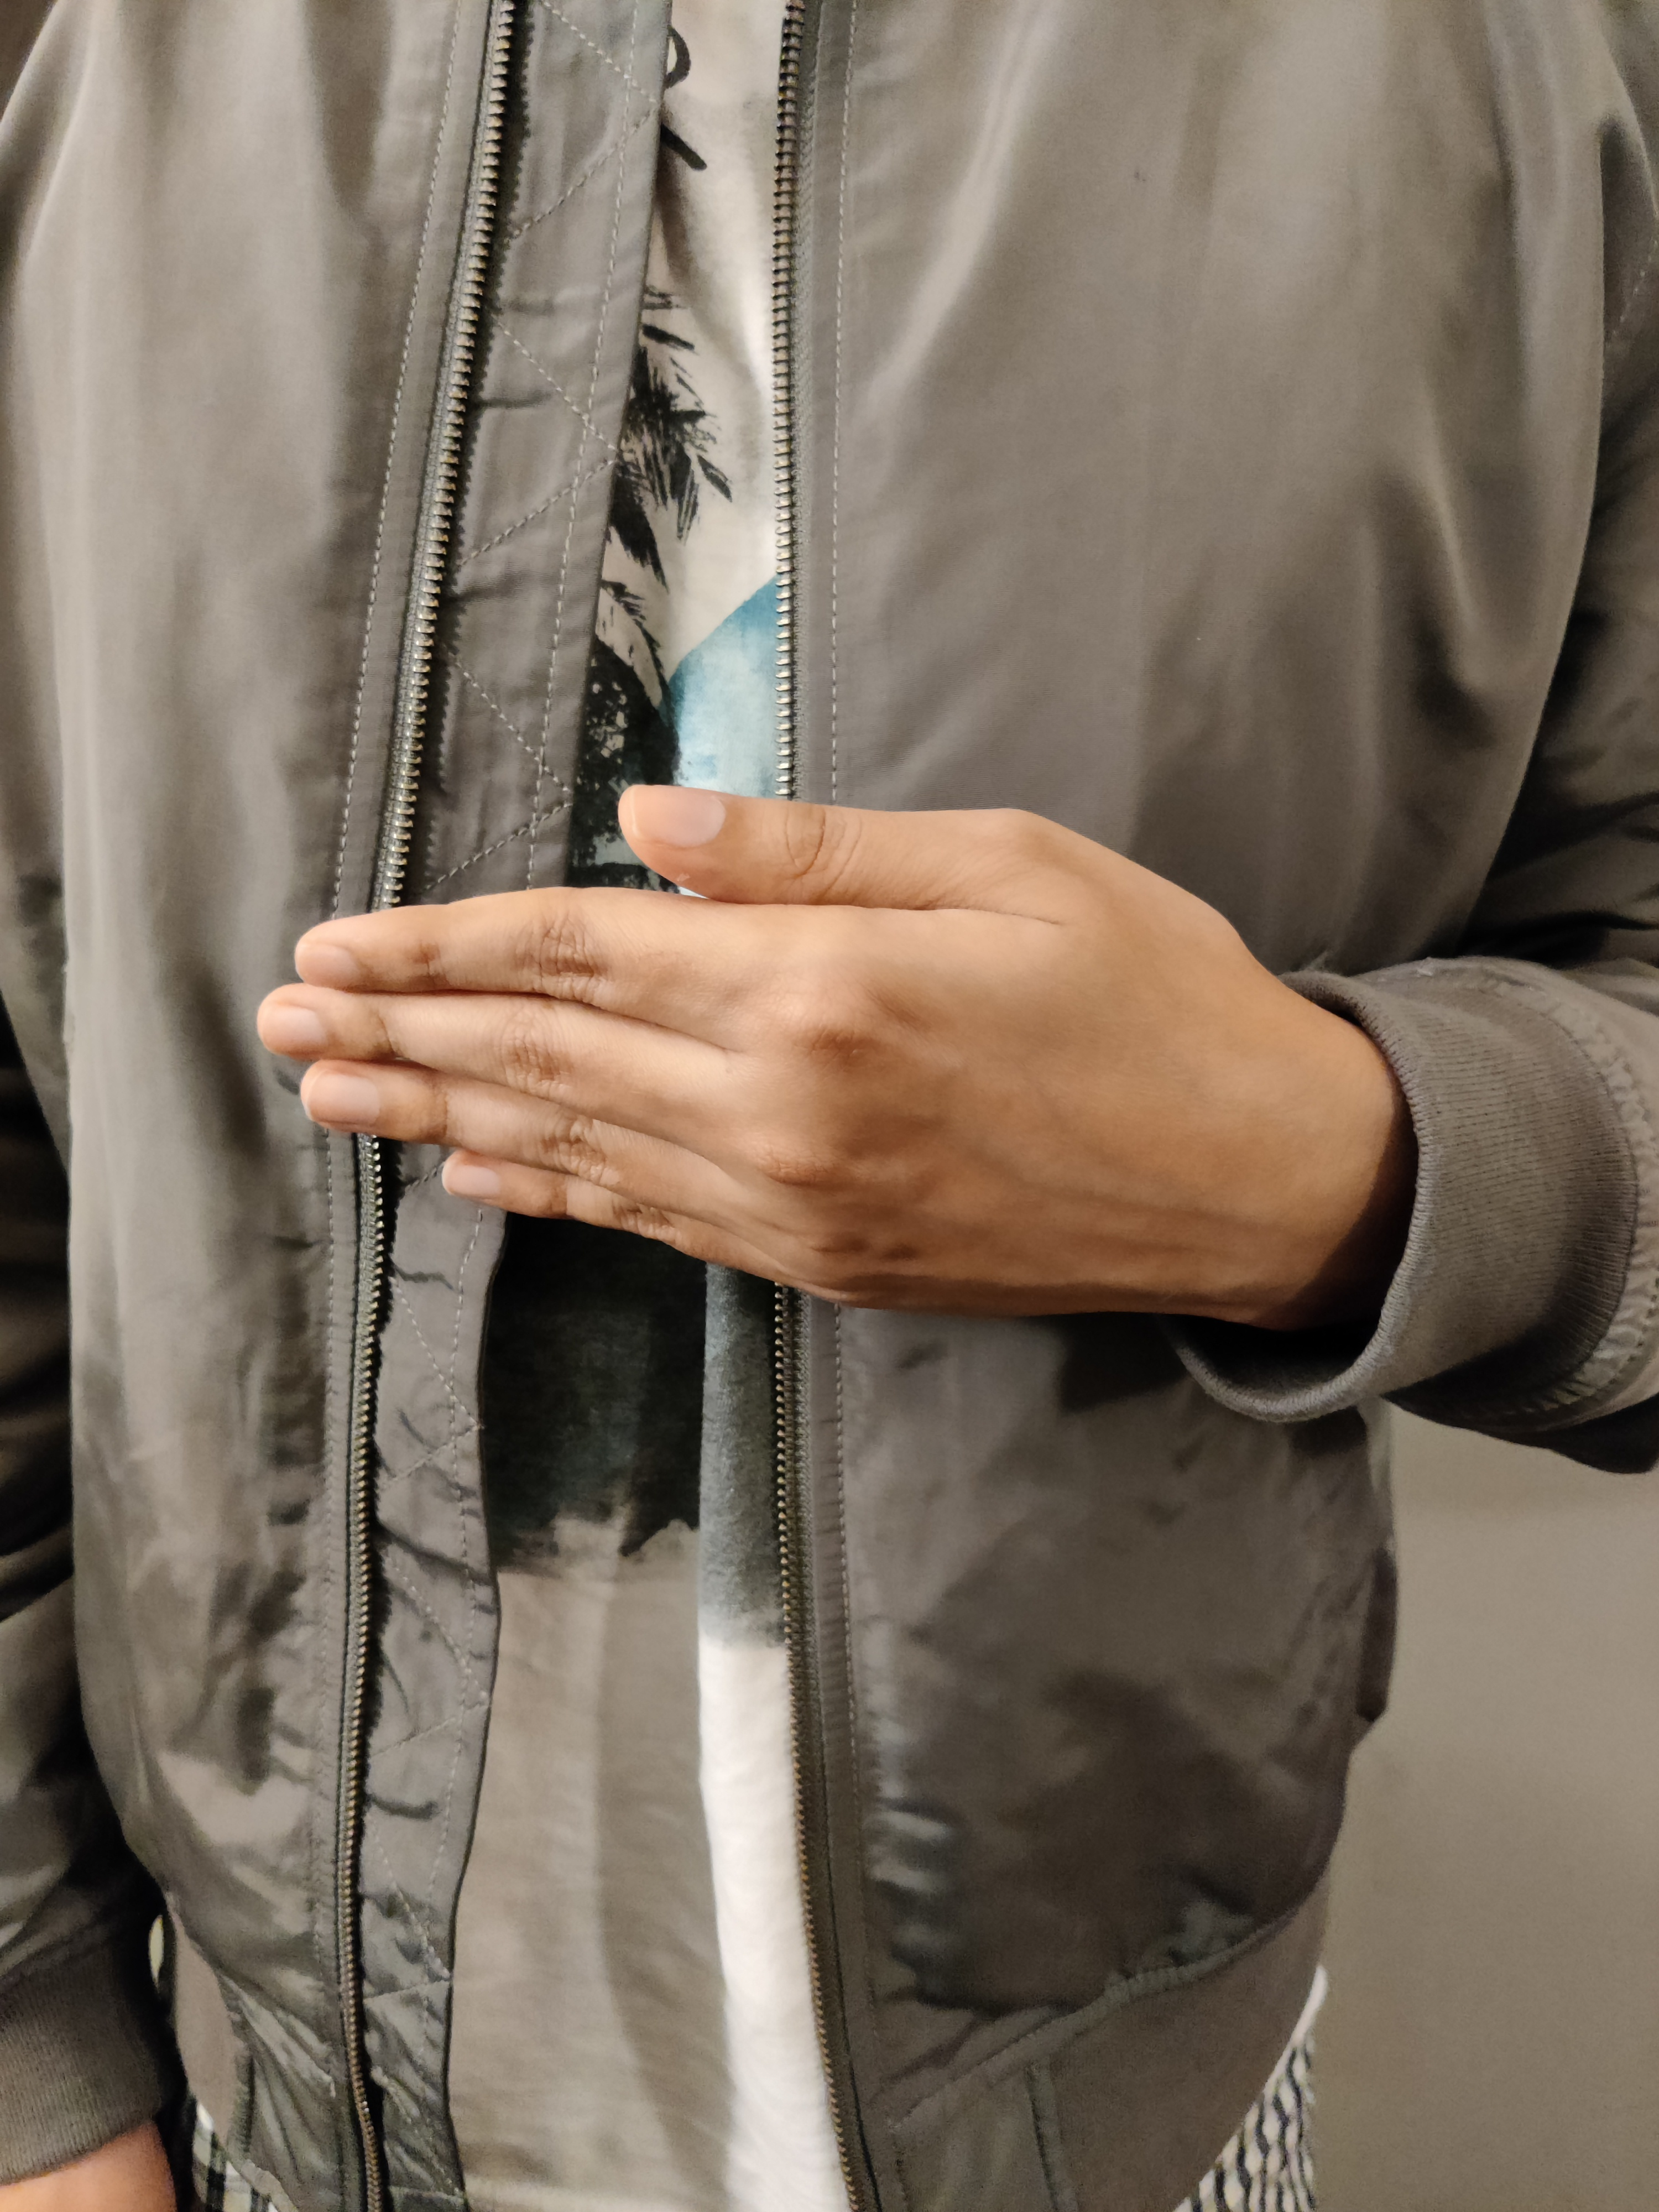right: (78, 554, 1561, 1571)
